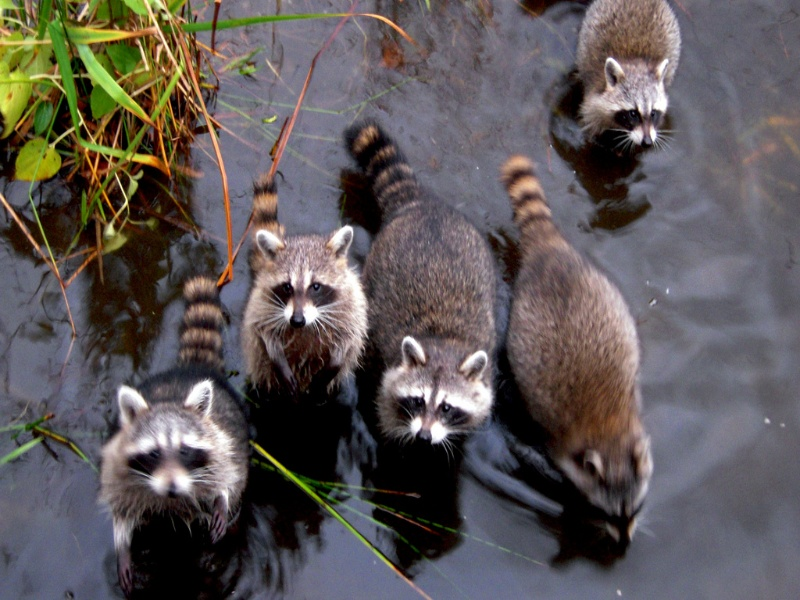raccoon: (497, 154, 657, 553), (347, 118, 502, 455), (100, 234, 250, 580), (247, 165, 371, 400), (573, 6, 686, 148)
